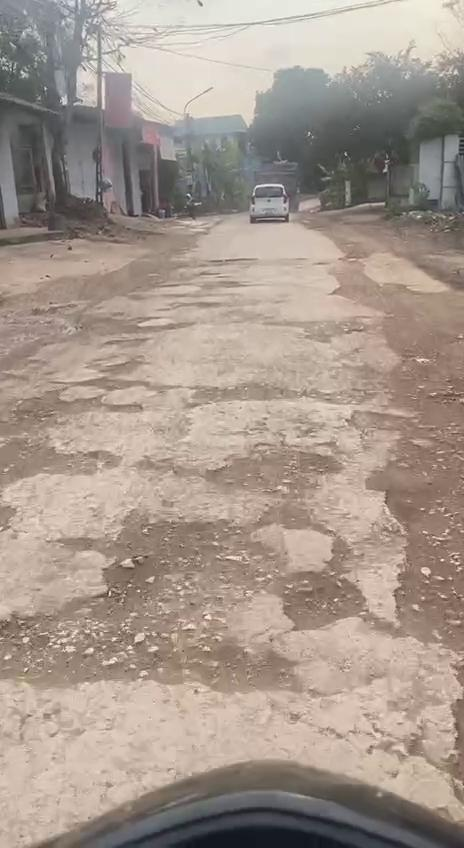pothole: (3, 512, 360, 694), (359, 463, 464, 648), (18, 354, 182, 418), (214, 442, 344, 502), (0, 438, 123, 489), (316, 386, 418, 446), (190, 375, 299, 408), (264, 314, 368, 346)
